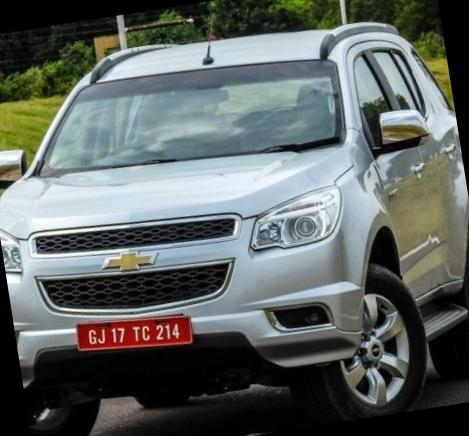plate: (62, 296, 216, 372)
